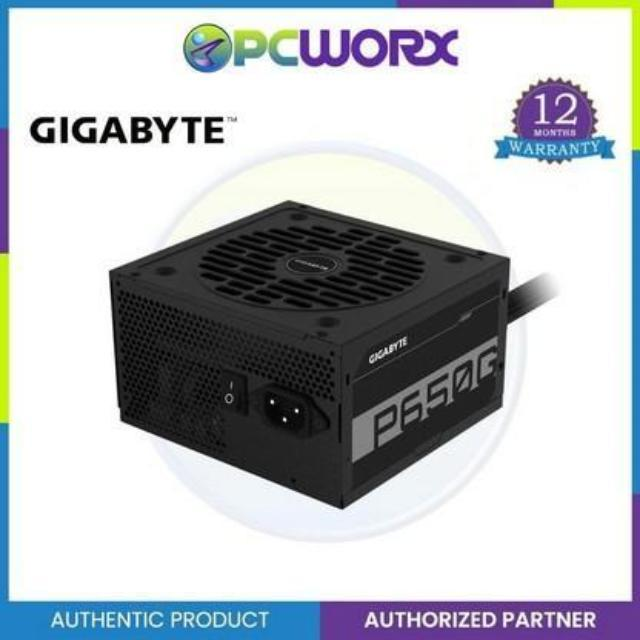PSU: (96, 190, 518, 527)
